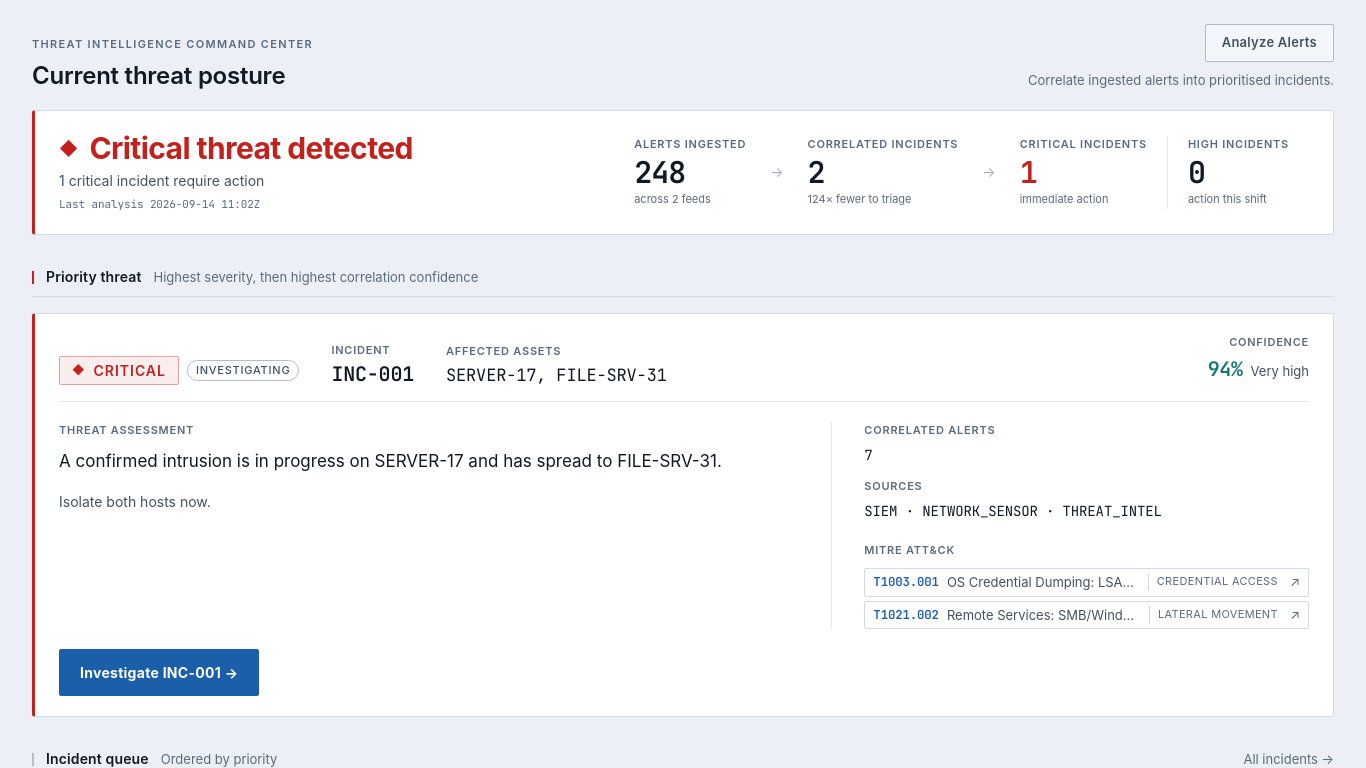
it: Dashboard — Analyze Alerts lifecycle › transitions idle -> analyzing -> failure and NEVER shows a fake success
The width and height of the screenshot is (1366, 768).
Click the button "Analyze Alerts" at (1269, 43), box [1205,24,1334,62]
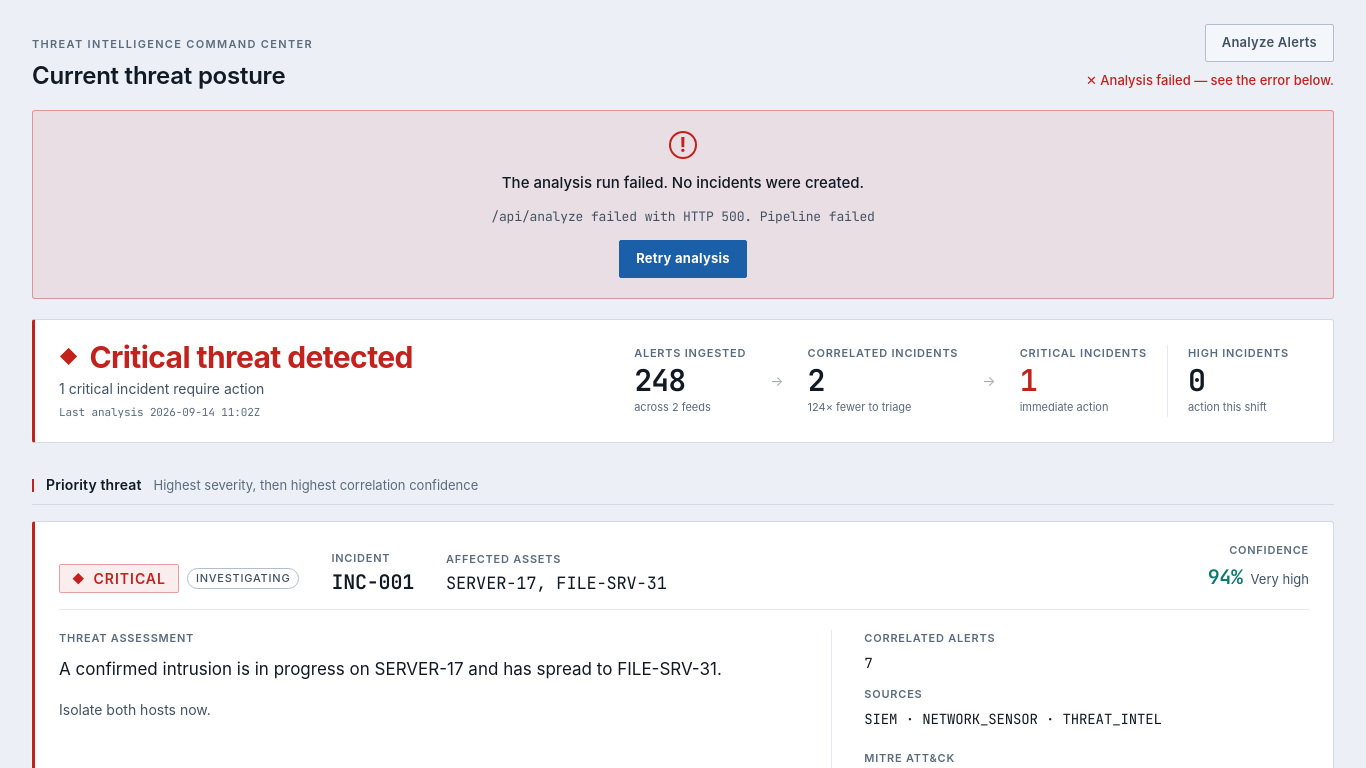
Now the text "✕ Analysis failed — see the error below." is shown, box [1086,72,1334,88]
Now the text "The analysis run failed. No incidents were created." is shown, box [502,171,864,195]
